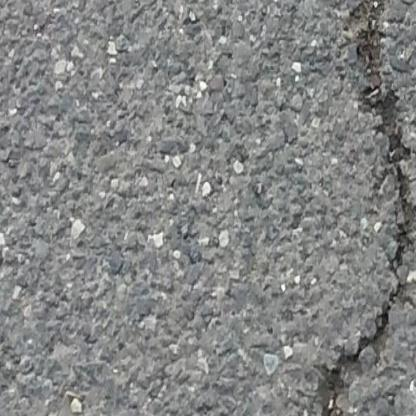Cracks: (314, 0, 414, 416)
